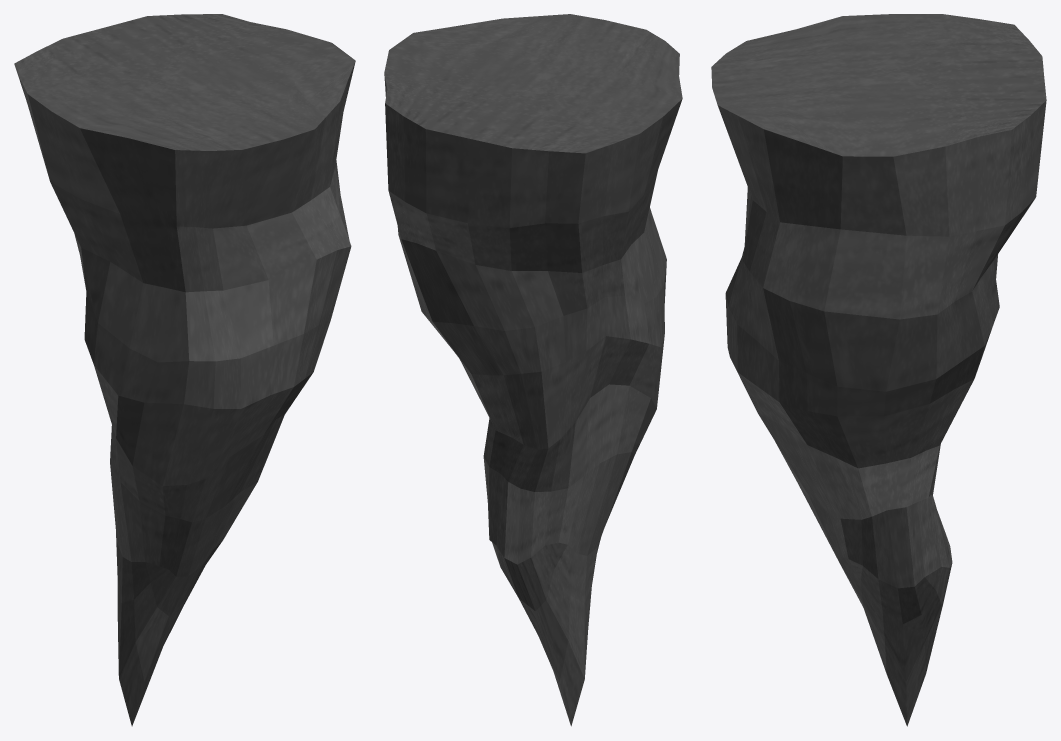
The model's file is Rock2.fbx.
3 renders of one model, left to right at view 1: azimuth 30°, elevation 25°; view 2: azimuth 150°, elevation 25°; view 3: azimuth 270°, elevation 25°, orthographic. The views are drawn at different scales.
Visible parts, largest first — view 1: rock2; view 2: rock2; view 3: rock2.
Part boxes in pixels (x1,y1,x2,y2): rock2: (14,14,355,726); rock2: (384,14,682,726); rock2: (711,14,1046,726).
Bounding box in the file's own units: 1180 × 2578 × 1171.
